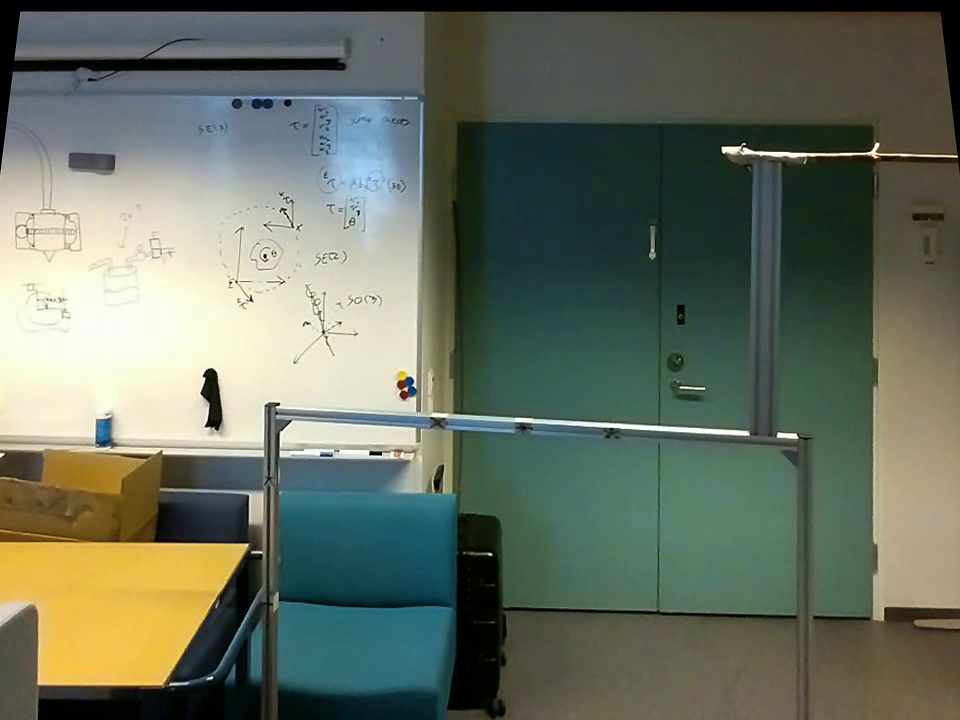aluminum_frame: (274, 397, 794, 457), (1, 428, 422, 463), (747, 166, 783, 434), (255, 398, 285, 717), (405, 91, 431, 454), (8, 87, 425, 103), (795, 429, 818, 716)
branch: (808, 129, 956, 173)
